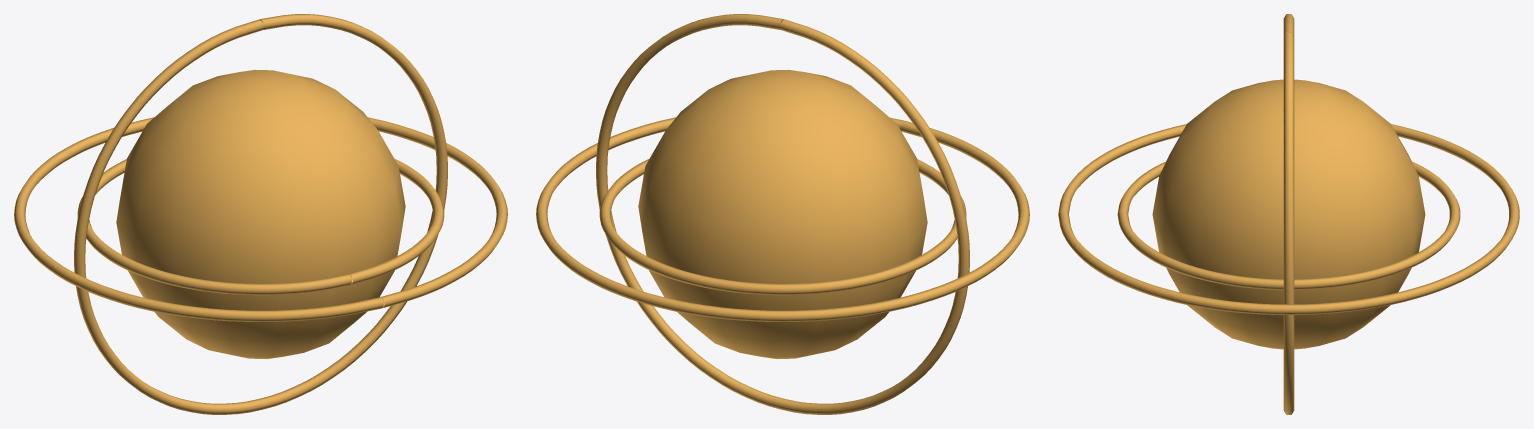
Rendered from ability-2-refined-v15.fbx.
3 renders of one model, left to right at view 1: azimuth 30°, elevation 25°; view 2: azimuth 150°, elevation 25°; view 3: azimuth 270°, elevation 25°, orthographic. The views are drawn at different scales.
Visible parts, largest first — view 1: EnergyCore.001, EnergyOrbit.004, EnergyOrbit.005, EnergyOrbit.003; view 2: EnergyCore.001, EnergyOrbit.004, EnergyOrbit.005, EnergyOrbit.003; view 3: EnergyCore.001, EnergyOrbit.005, EnergyOrbit.003, EnergyOrbit.004.
Boxes of the visible parts, x1,y1,x2,y2 form: EnergyCore.001: (116,69,405,359); EnergyOrbit.004: (74,14,447,414); EnergyOrbit.005: (14,117,507,321); EnergyOrbit.003: (77,159,444,295); EnergyCore.001: (638,69,927,359); EnergyOrbit.004: (596,14,969,414); EnergyOrbit.005: (536,117,1029,321); EnergyOrbit.003: (599,159,966,295); EnergyCore.001: (1152,79,1425,349); EnergyOrbit.005: (1058,124,1519,314); EnergyOrbit.003: (1117,161,1460,289); EnergyOrbit.004: (1283,14,1294,414).
Size of the model in its own units: 77.8 by 67.56 by 77.8.
